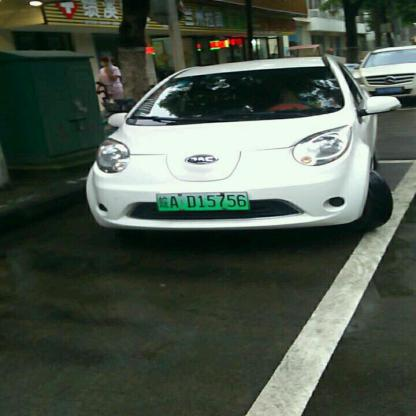lp: (156, 192, 248, 210)
